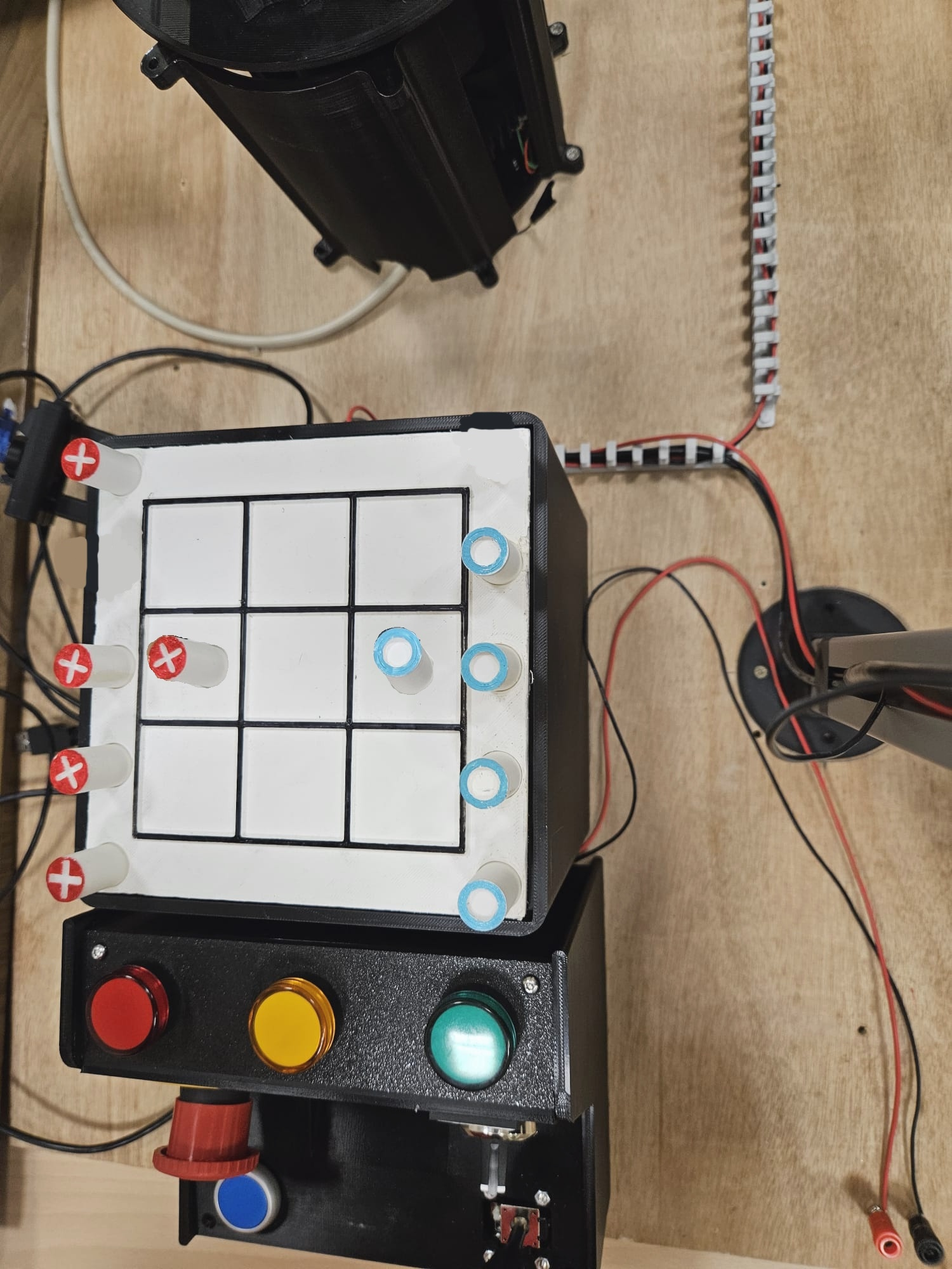blue circle: (458, 879, 507, 932), (459, 758, 508, 808), (374, 628, 422, 677), (461, 527, 509, 575), (461, 643, 508, 691)
board: (70, 428, 531, 928)
cells: (351, 729, 459, 848), (355, 494, 462, 605), (354, 612, 461, 723), (241, 727, 345, 841), (136, 726, 237, 838), (244, 613, 348, 721), (249, 499, 350, 607), (140, 613, 240, 720), (145, 502, 243, 608)
grid: (133, 487, 468, 851)
red cross: (46, 857, 85, 902), (147, 635, 186, 680), (61, 438, 100, 482), (50, 749, 88, 794), (53, 643, 91, 687)
